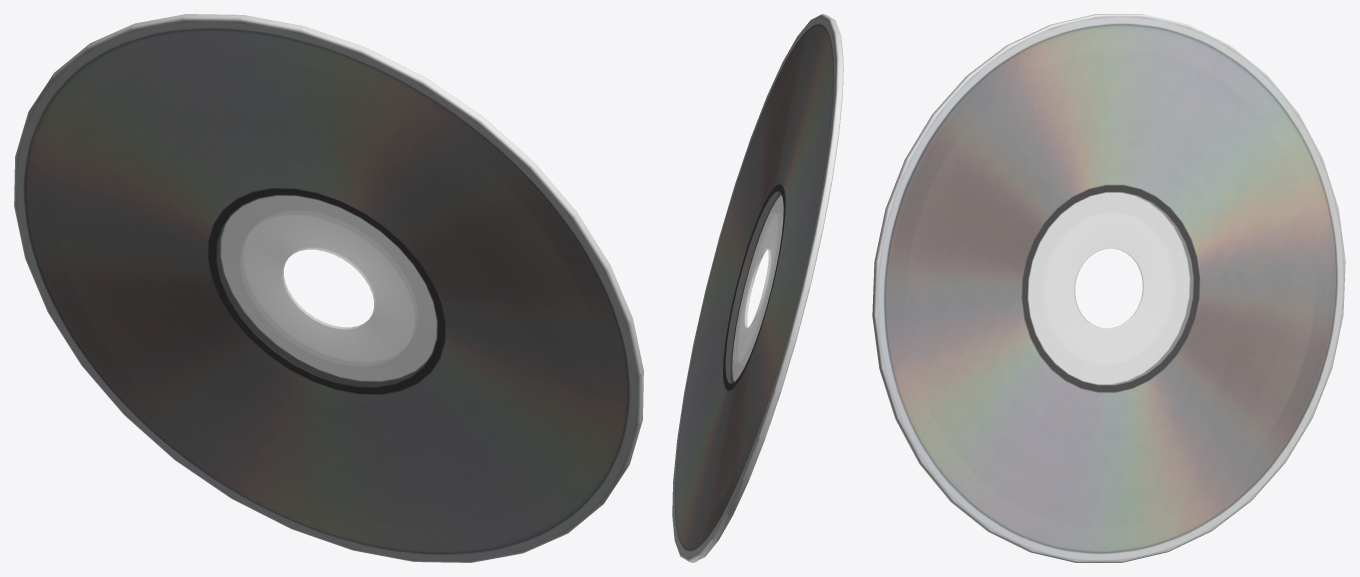
3 renders of one model, left to right at view 1: azimuth 30°, elevation 25°; view 2: azimuth 150°, elevation 25°; view 3: azimuth 270°, elevation 25°, orthographic. The views are drawn at different scales.
Visible parts, largest first — view 1: Object_2; view 2: Object_2; view 3: Object_2.
Part boxes in pixels (x1,y1,x2,y2): Object_2: (14, 14, 643, 562); Object_2: (672, 14, 843, 562); Object_2: (872, 14, 1345, 562).
Size of the model in its own units: 3.8 by 6.03 by 5.4.
1 material, 1 textured.
